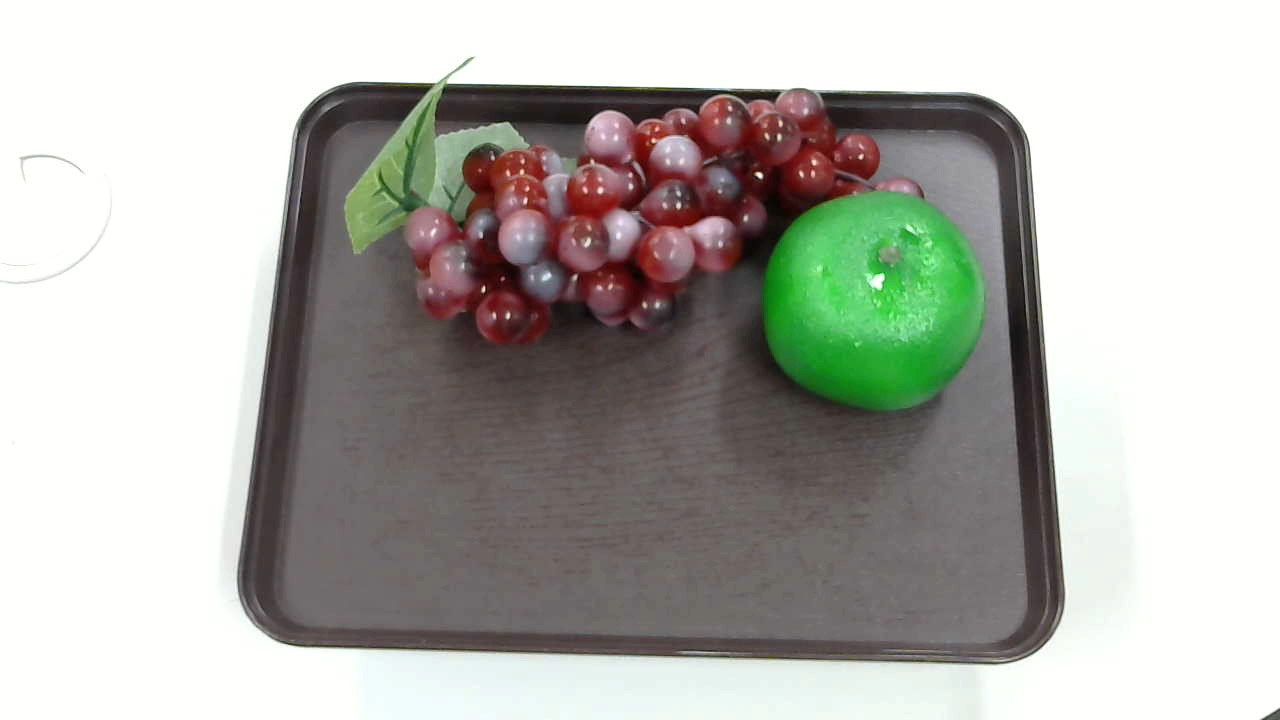grape: (317, 59, 934, 361)
green orange: (762, 195, 988, 408)
